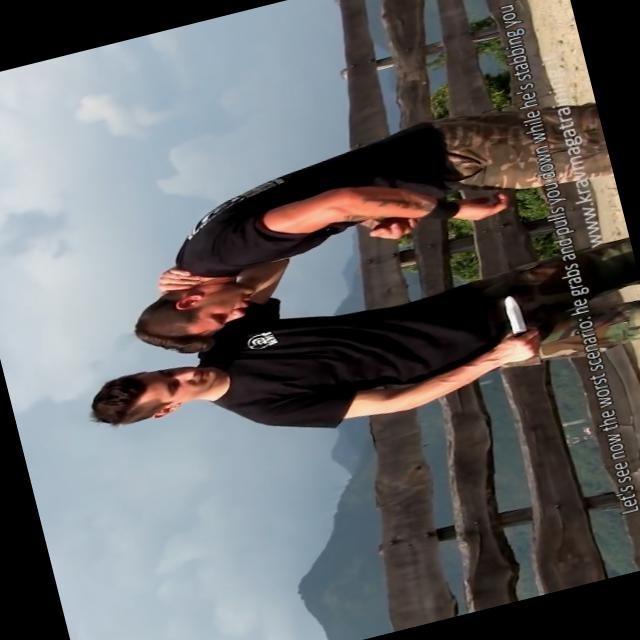knife: (488, 283, 548, 363)
